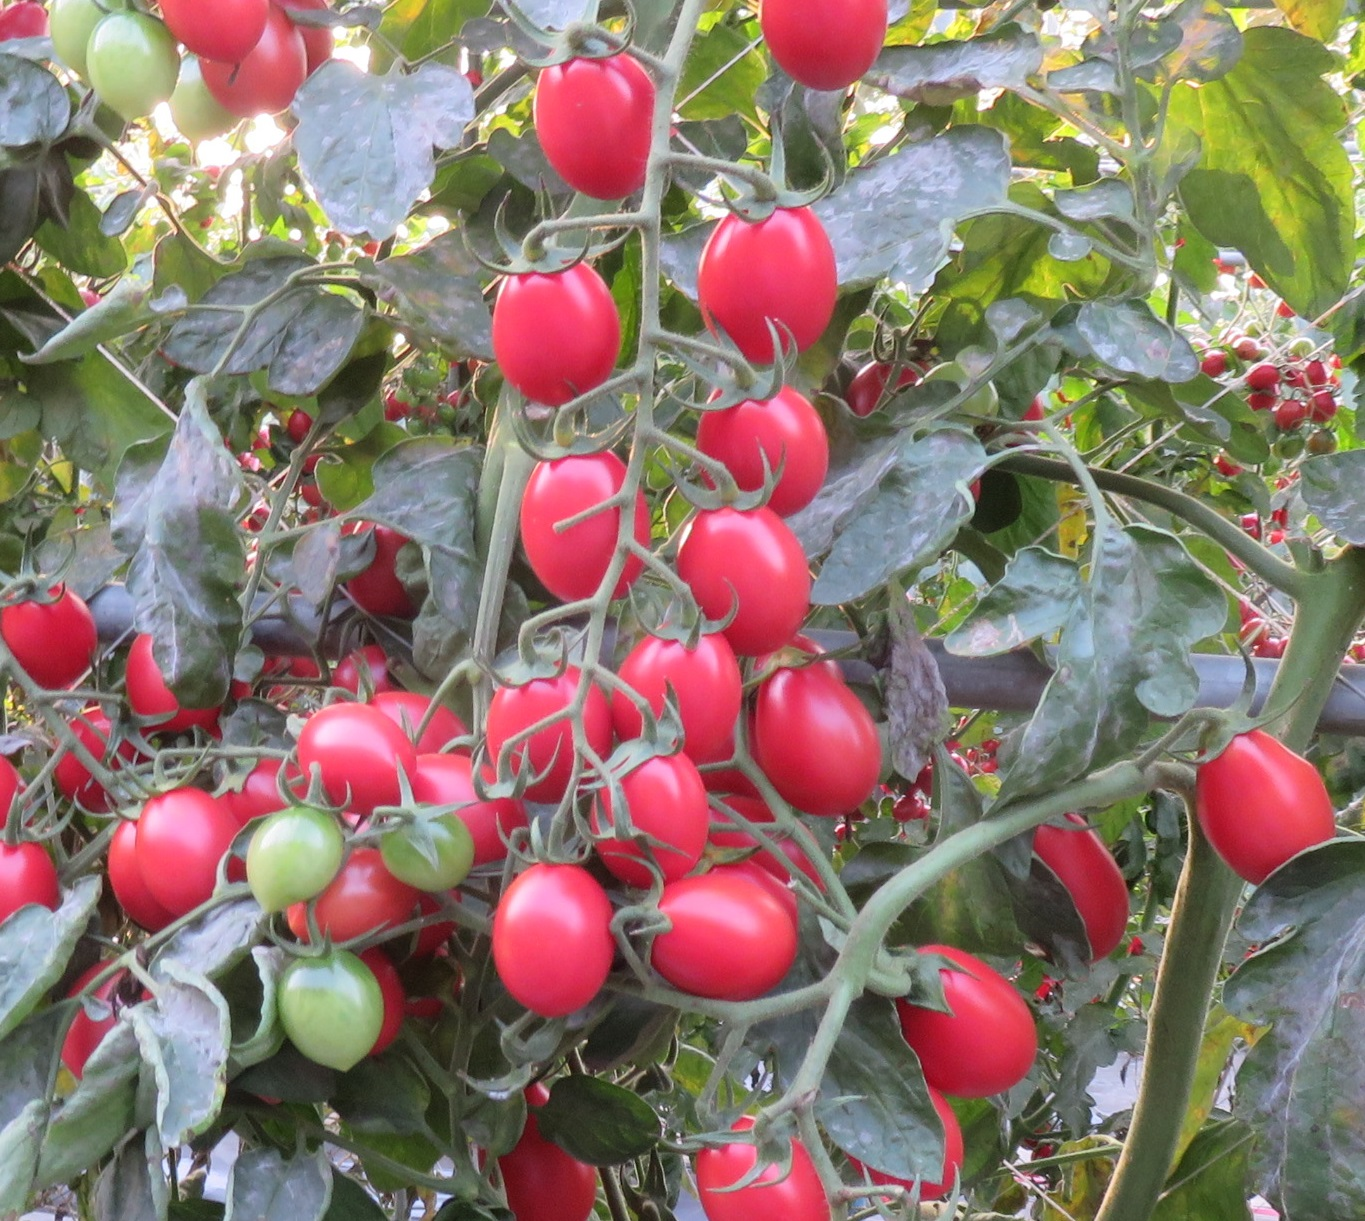green: (276, 942, 390, 1067), (240, 805, 345, 919), (88, 12, 183, 124), (378, 808, 476, 891)
red: (877, 942, 1038, 1095), (631, 866, 810, 1003), (1193, 717, 1338, 884), (749, 653, 885, 826), (488, 850, 625, 1023), (528, 37, 668, 204), (517, 433, 647, 609), (695, 203, 840, 359), (492, 236, 624, 404), (572, 737, 716, 889), (672, 509, 819, 651), (492, 656, 615, 798), (607, 621, 741, 750), (695, 391, 835, 509), (131, 781, 243, 917), (484, 1094, 600, 1217), (1044, 810, 1137, 959), (415, 747, 534, 863), (694, 1113, 820, 1221), (292, 707, 420, 813), (751, 1, 891, 97), (312, 841, 424, 942), (126, 635, 231, 740), (198, 27, 314, 119), (1, 590, 100, 697), (47, 711, 136, 803), (1, 827, 70, 933), (348, 522, 421, 614)
